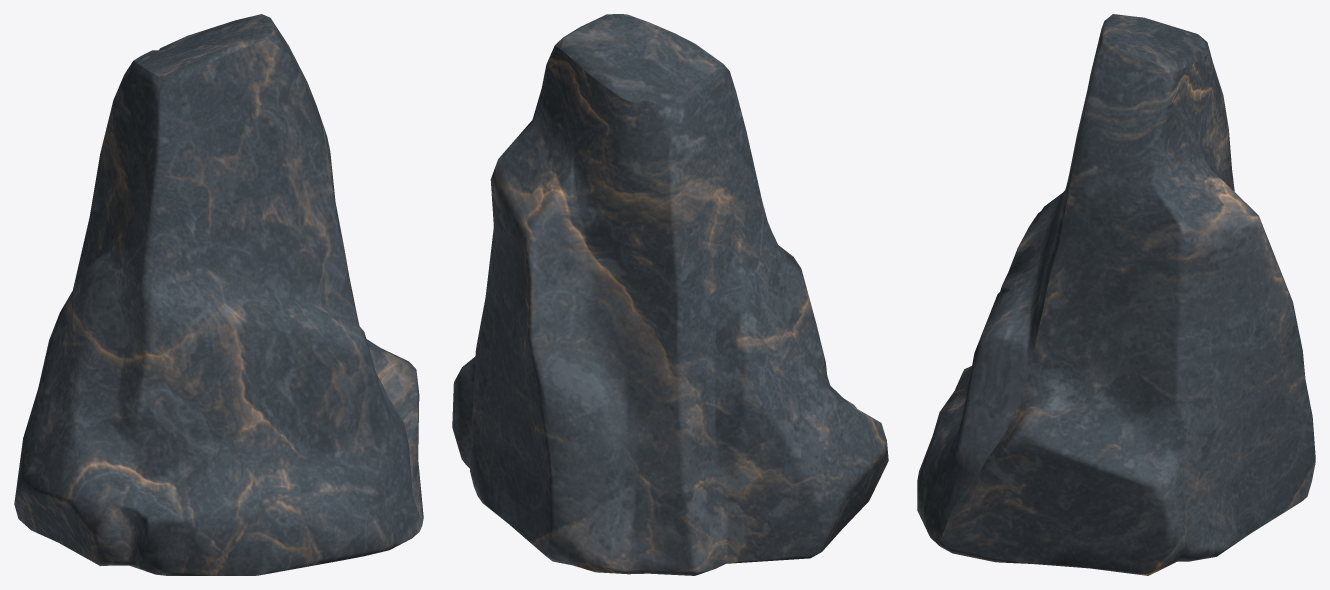
The model's file is Rocher03_low_LOD1.fbx.
The picture shows the model from 3 angles, left to right: view 1: azimuth 30°, elevation 25°; view 2: azimuth 150°, elevation 25°; view 3: azimuth 270°, elevation 25°; orthographic projection. The views are drawn at different scales.
Visible parts, largest first — view 1: Rocher03_low_0; view 2: Rocher03_low_0; view 3: Rocher03_low_0.
Part boxes in pixels (left/top/right/bottom): Rocher03_low_0: left=14, top=14, right=423, bottom=575; Rocher03_low_0: left=452, top=14, right=888, bottom=575; Rocher03_low_0: left=917, top=14, right=1315, bottom=575.
Size of the model in its own units: 17.25 by 20.63 by 15.64.
1 material, 1 textured.
